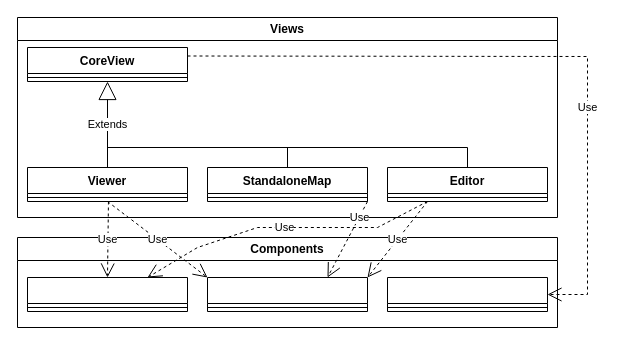
The diagram is 619 pixels wide and 345 high, and some of its shapes have lost their labels. Here are the shapes that lost their labels. From the top down, the centre of each, then its label:
At (x=107, y=294): "Photo".
At (x=287, y=294): "Map".
At (x=467, y=294): "Loader".
